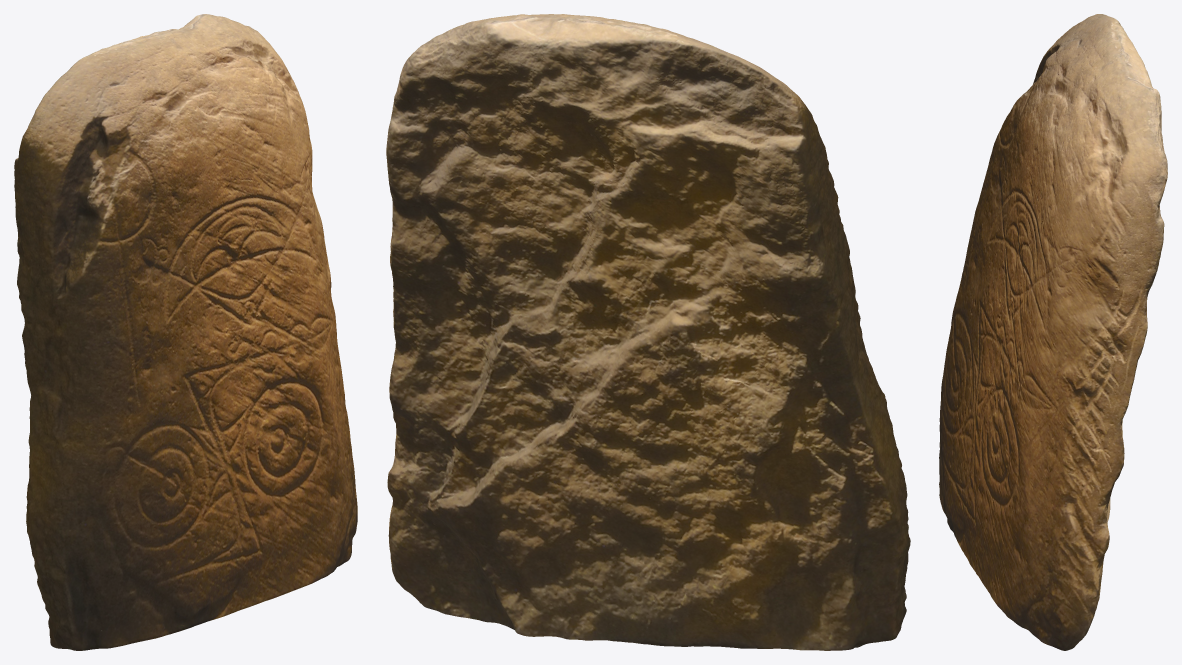
The model's file is invereen_stone.glb.
3 views of the same model, side by side, from view 1: azimuth 30°, elevation 25°; view 2: azimuth 150°, elevation 25°; view 3: azimuth 270°, elevation 25° (orthographic). The views are drawn at different scales.
Visible parts, largest first — view 1: Object_2; view 2: Object_2; view 3: Object_2.
Boxes of the visible parts, left/top/right/bottom form: Object_2: left=14, top=14, right=357, bottom=650; Object_2: left=386, top=14, right=910, bottom=650; Object_2: left=939, top=14, right=1167, bottom=650.
Bounding box in the file's own units: 1106 × 1550 × 612.
1 material, 1 textured.
